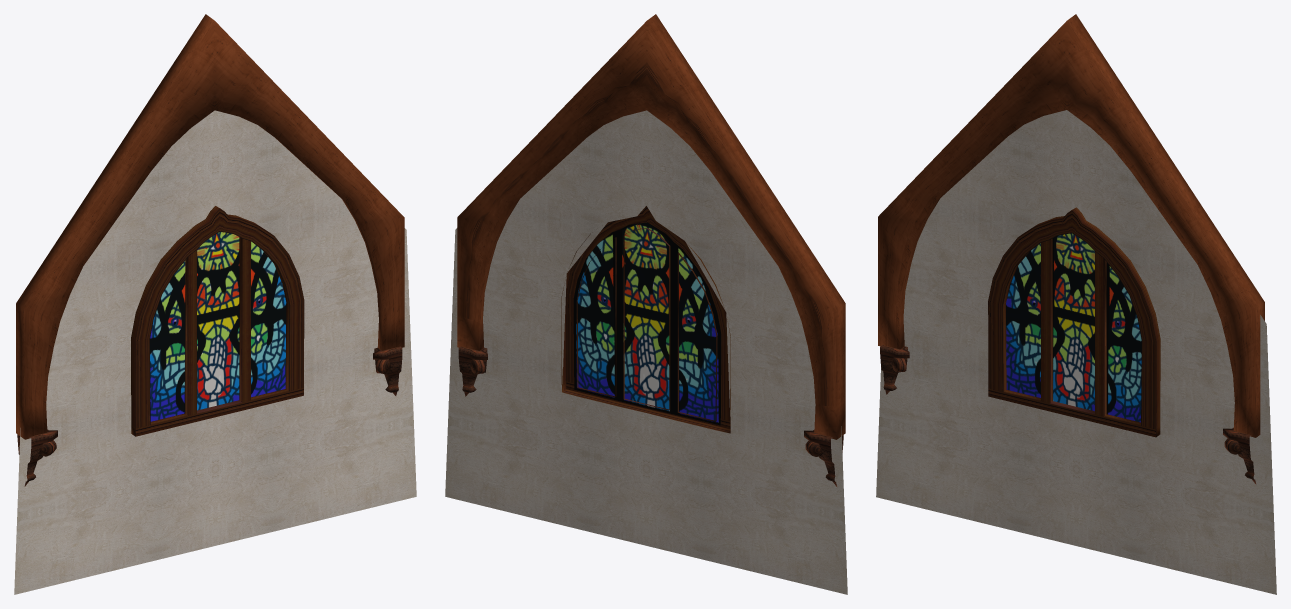
The model's file is VaultedWINDOWend.fbx.
3 views of the same model, side by side, from view 1: azimuth 30°, elevation 25°; view 2: azimuth 150°, elevation 25°; view 3: azimuth 330°, elevation 25° (orthographic).
Visible parts, largest first — view 1: BeamCeilingEndcapWindow; view 2: BeamCeilingEndcapWindow; view 3: BeamCeilingEndcapWindow.
Boxes of the visible parts, left/top/right/bottom form: BeamCeilingEndcapWindow: left=14, top=14, right=416, bottom=594; BeamCeilingEndcapWindow: left=445, top=14, right=847, bottom=594; BeamCeilingEndcapWindow: left=876, top=14, right=1276, bottom=594.
Bounding box in the file's own units: 936 × 1177 × 68.49.
